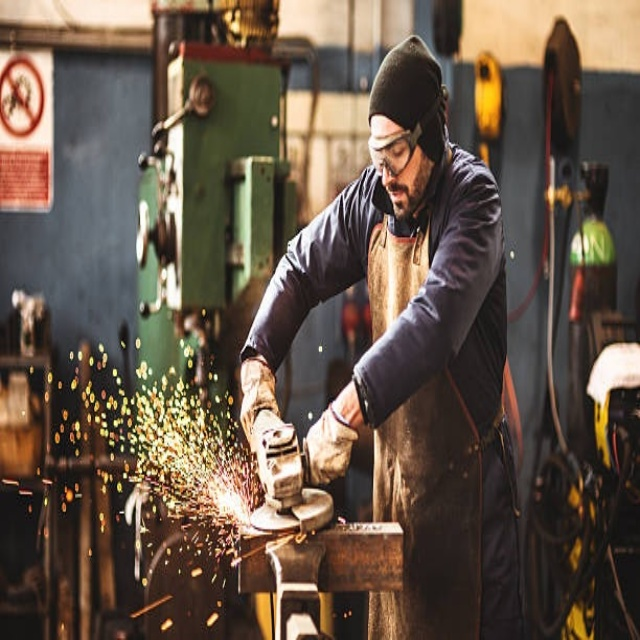Gafas: (369, 121, 426, 180)
Guantes: (238, 357, 285, 467), (304, 401, 358, 486)
Sin_mascara: (384, 186, 412, 227)
